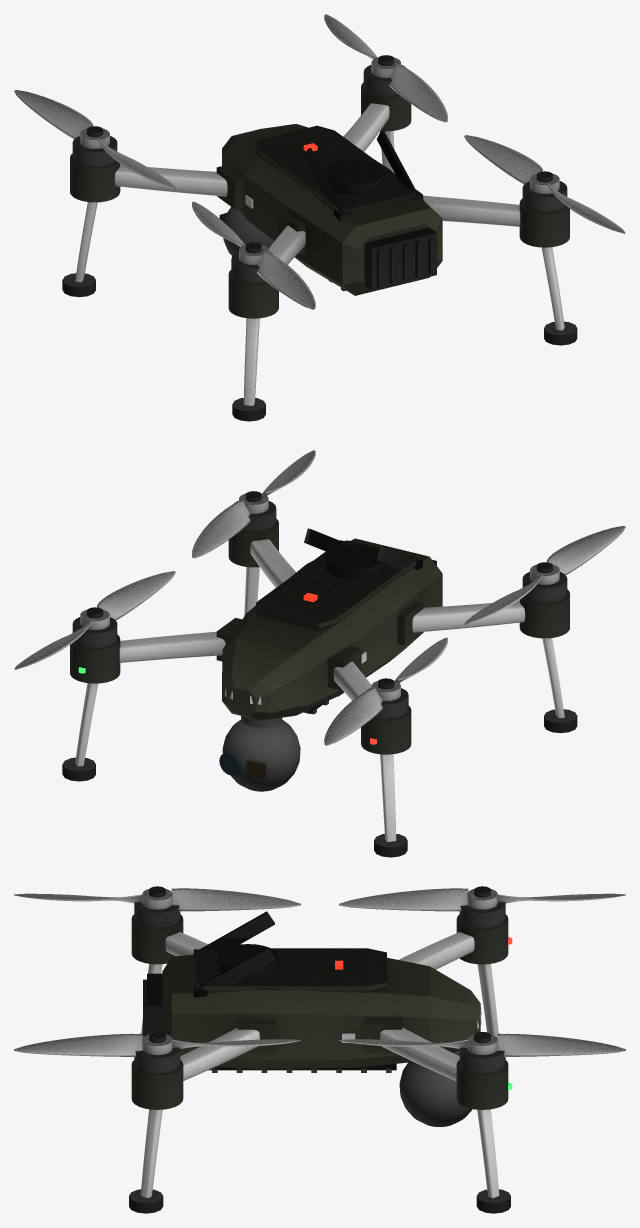
File: drone_recon_web.glb
3 views of the same model, one above another, from view 1: azimuth 30°, elevation 25°; view 2: azimuth 150°, elevation 25°; view 3: azimuth 270°, elevation 25° (orthographic). The views are drawn at different scales.
Parts seen in each view (by area): view 1: DroneRecon_Body, Prop_RR_Mesh, Prop_FL_Mesh, Prop_RL_Mesh, Prop_FR_Mesh, Turret_Mesh; view 2: DroneRecon_Body, Turret_Mesh, Prop_FR_Mesh, Prop_RL_Mesh, Prop_FL_Mesh, Prop_RR_Mesh; view 3: DroneRecon_Body, Prop_FL_Mesh, Prop_RL_Mesh, Prop_RR_Mesh, Prop_FR_Mesh, Turret_Mesh.
Boxes of the visible parts, x1,y1,x2,y2 form: DroneRecon_Body: (62,65,577,421); Prop_RR_Mesh: (464,135,625,233); Prop_FL_Mesh: (14,90,175,188); Prop_RL_Mesh: (192,201,315,309); Prop_FR_Mesh: (324,14,447,122); Turret_Mesh: (219,207,273,255); DroneRecon_Body: (62,501,577,857); Turret_Mesh: (219,716,300,791); Prop_FR_Mesh: (14,571,175,669); Prop_RL_Mesh: (464,526,625,624); Prop_FL_Mesh: (324,637,447,745); Prop_RR_Mesh: (192,450,315,558); DroneRecon_Body: (129,902,512,1213); Prop_FL_Mesh: (339,886,625,911); Prop_RL_Mesh: (14,886,300,911); Prop_RR_Mesh: (14,1032,300,1056); Prop_FR_Mesh: (339,1032,625,1056); Turret_Mesh: (399,1050,472,1126).
Size of the model in its own units: 0.4212 by 0.2289 by 0.64.
Materials: 11 (11 with a texture image).
